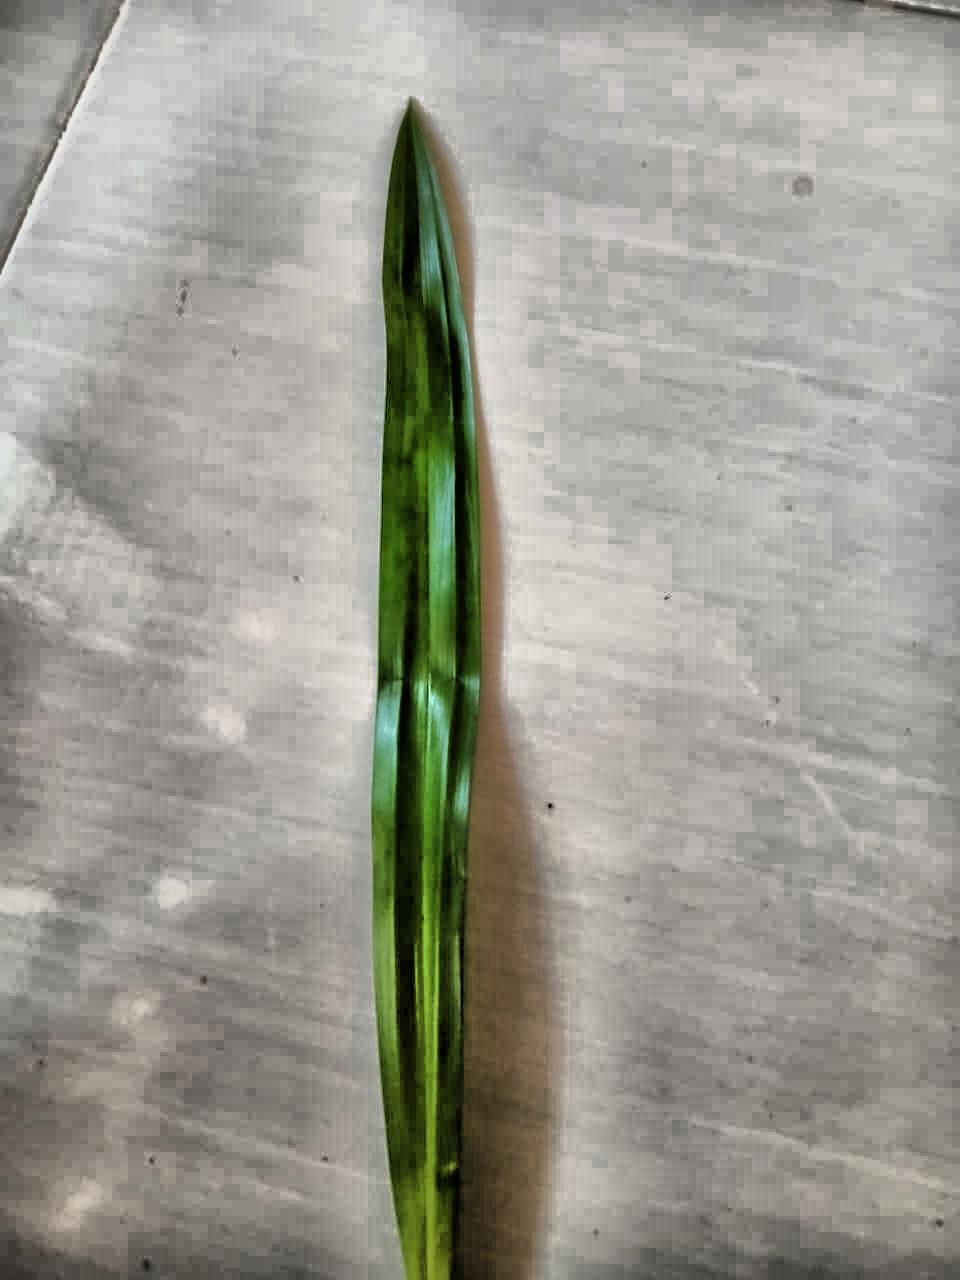daun pandan: (371, 102, 480, 1279)
